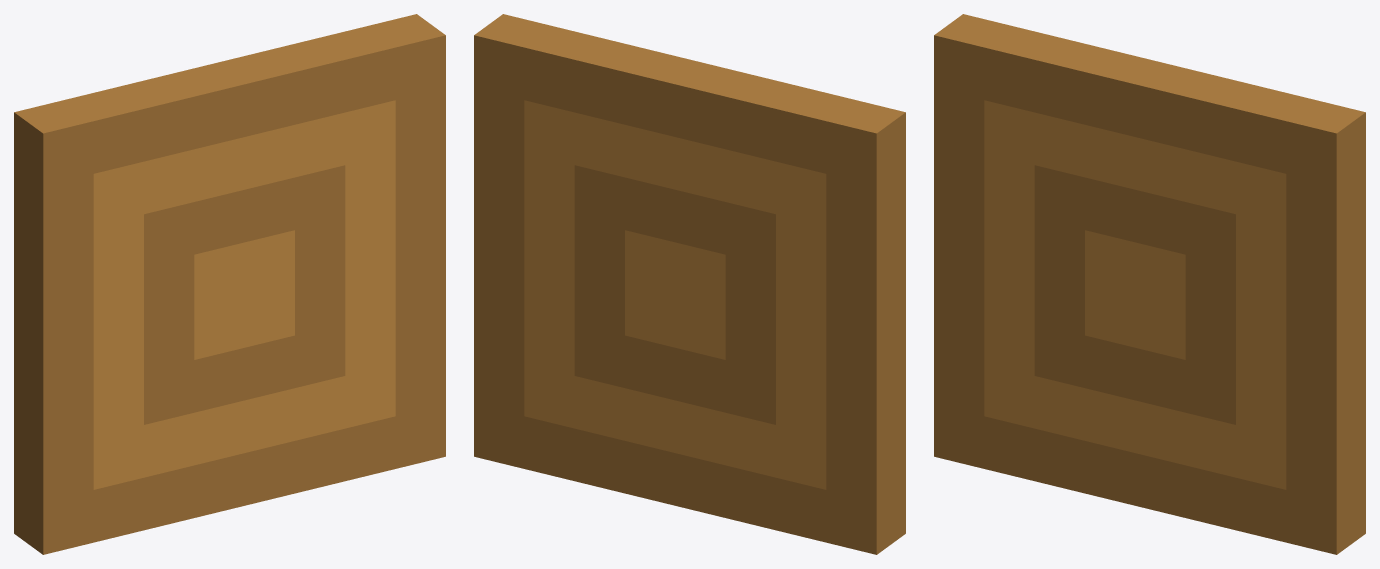
File: Palm Trapdoor.glb
3 views of the same model, side by side, from view 1: azimuth 30°, elevation 25°; view 2: azimuth 150°, elevation 25°; view 3: azimuth 330°, elevation 25° (orthographic).
Parts seen in each view (by area): view 1: generated(Clone); view 2: generated(Clone); view 3: generated(Clone).
Boxes of the visible parts, bbox=[...] form: generated(Clone): bbox=[14, 14, 445, 554]; generated(Clone): bbox=[474, 14, 905, 554]; generated(Clone): bbox=[934, 14, 1365, 554].
Bounding box in the file's own units: 8 × 8 × 1.
1 material, 1 textured.
